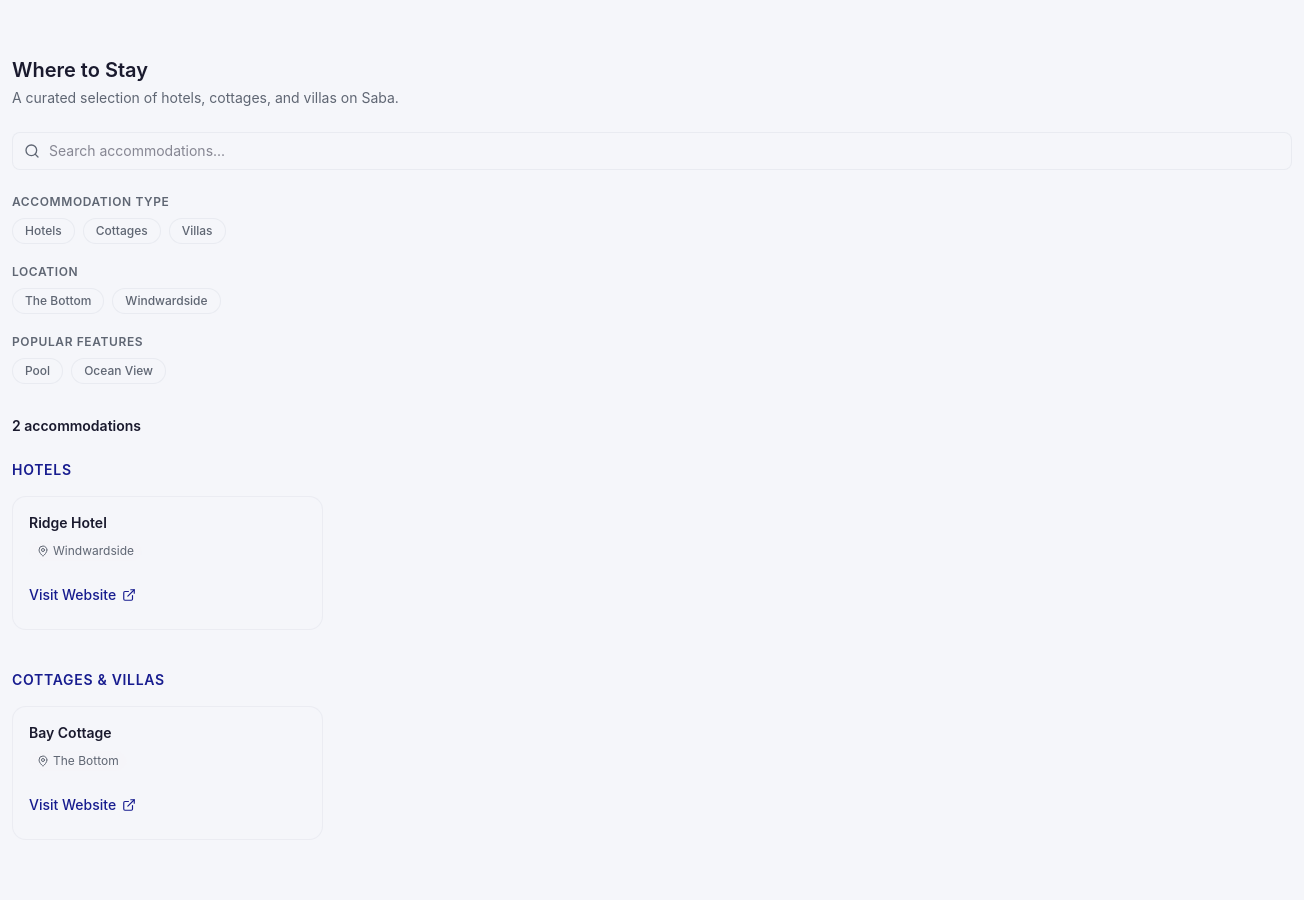
filters the list by the named search box and clears via the clear button
Type "ridge" into the search field labelled "Search accommodations".
click(652, 151); type("ridge")  # box 12,132 -> 1292,170
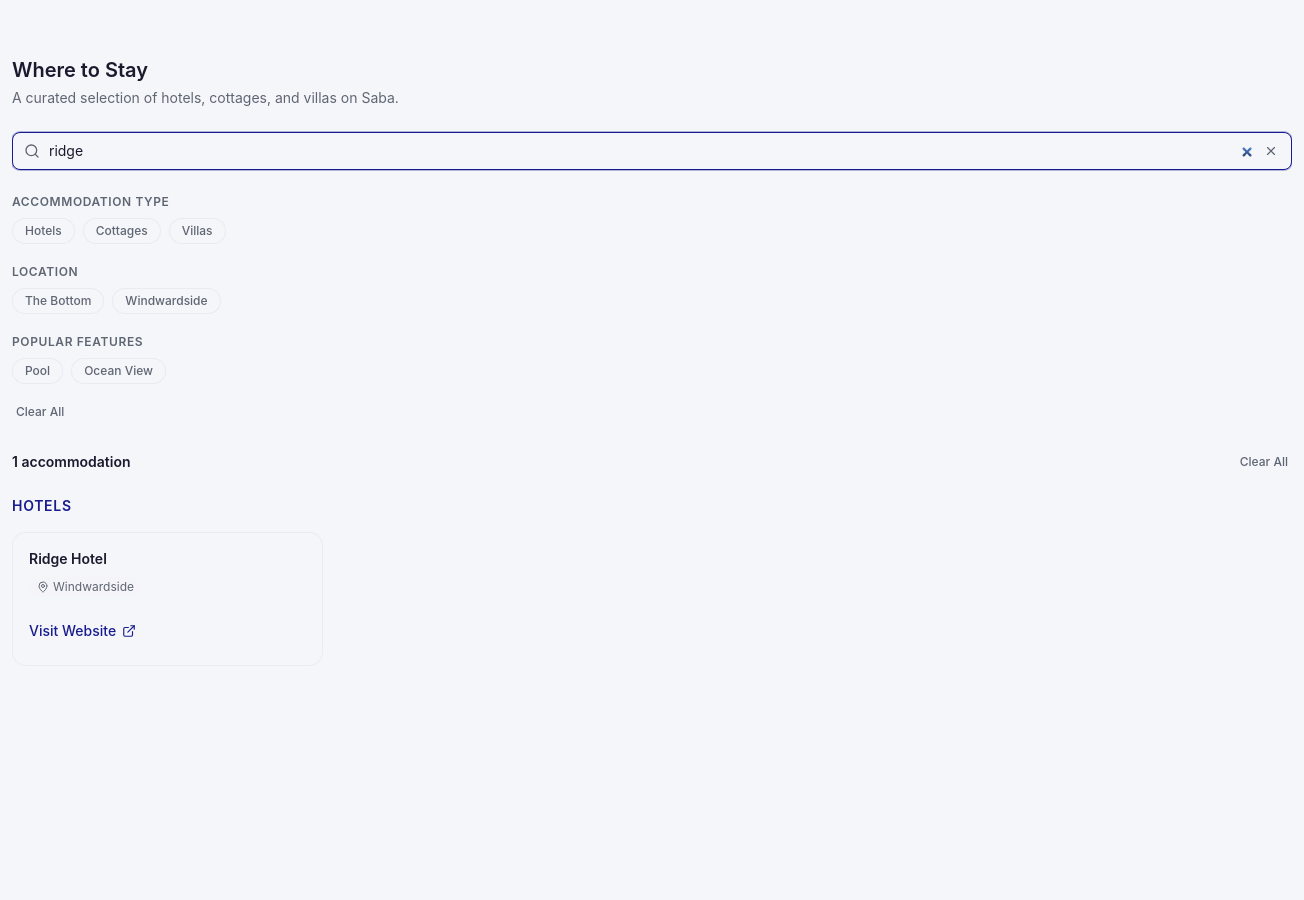
Check: the heading "1 accommodation" is shown, box 12,452 -> 130,472
Check: the heading "Bay Cottage" is gone
Click the button named "Clear search".
click(1271, 151)  # box 1262,142 -> 1280,160
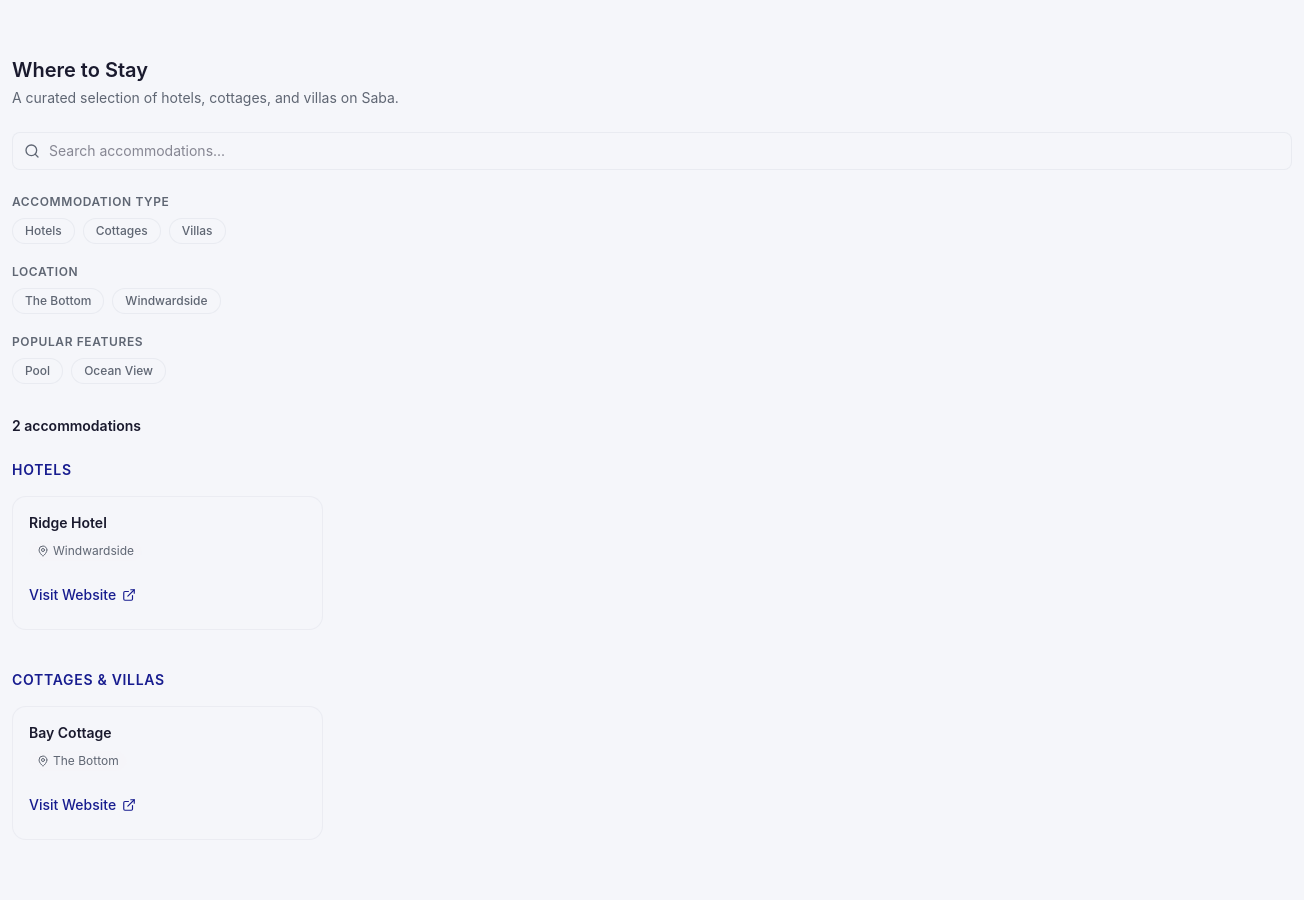
Check: the heading "2 accommodations" is shown, box 12,416 -> 141,436
